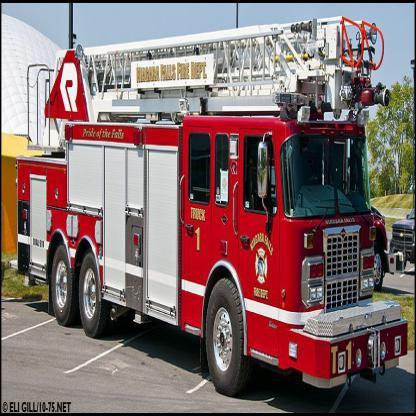fire-truck: (12, 27, 416, 404)
